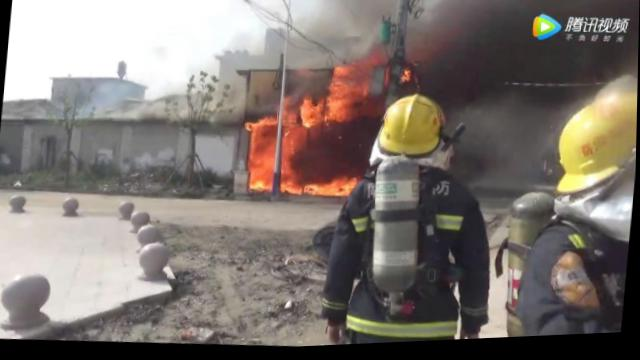fire: (325, 64, 366, 125), (245, 118, 278, 176), (280, 111, 300, 158), (300, 100, 324, 127), (249, 170, 274, 195), (329, 179, 357, 199), (278, 160, 293, 196), (286, 171, 305, 195), (303, 183, 331, 198), (402, 73, 412, 84)
